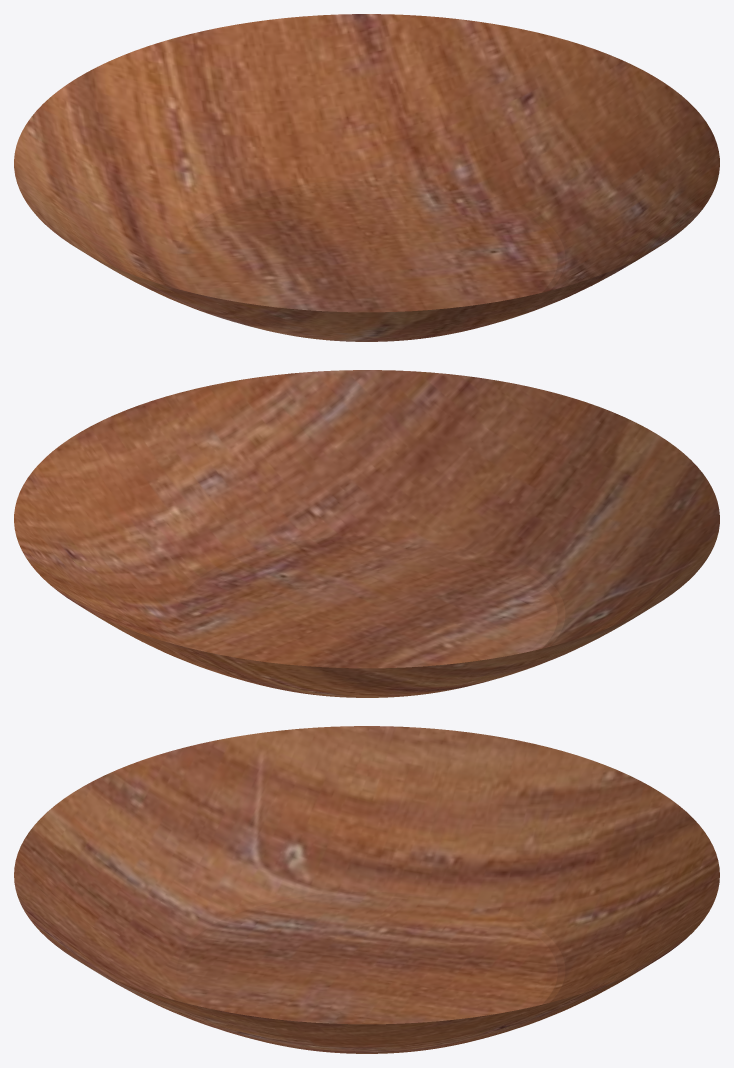
File: piring.obj
The picture shows the model from 3 angles, top to bottom: view 1: azimuth 30°, elevation 25°; view 2: azimuth 150°, elevation 25°; view 3: azimuth 270°, elevation 25°; orthographic projection.
Parts seen in each view (by area): view 1: Sphere; view 2: Sphere; view 3: Sphere.
Boxes of the visible parts, x1,y1,x2,y2 form: Sphere: (14, 14, 719, 341); Sphere: (14, 370, 719, 697); Sphere: (14, 726, 719, 1053).
Bounding box in the file's own units: 1.41 × 0.2168 × 1.41.
